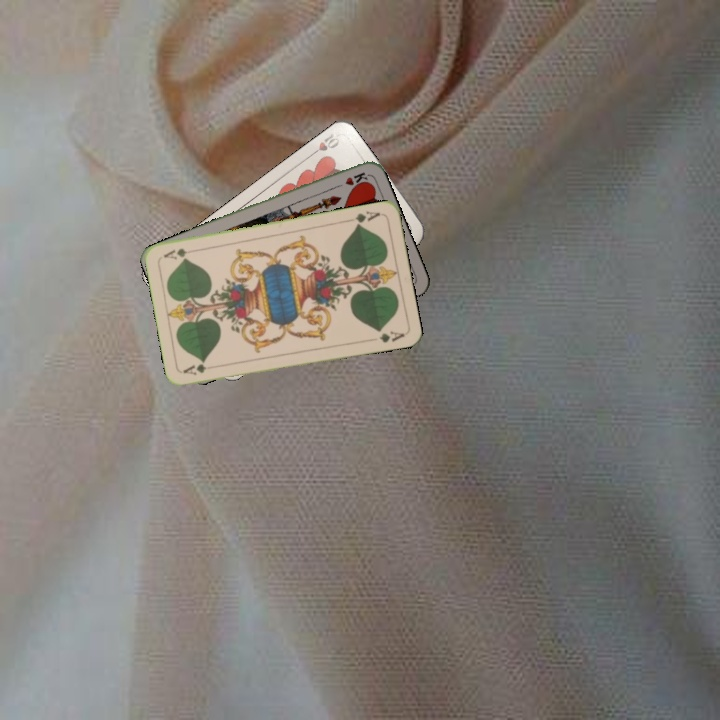GA: (344, 207, 383, 229), (179, 360, 209, 378)
H10: (305, 129, 342, 160)
HK: (330, 168, 370, 191)
